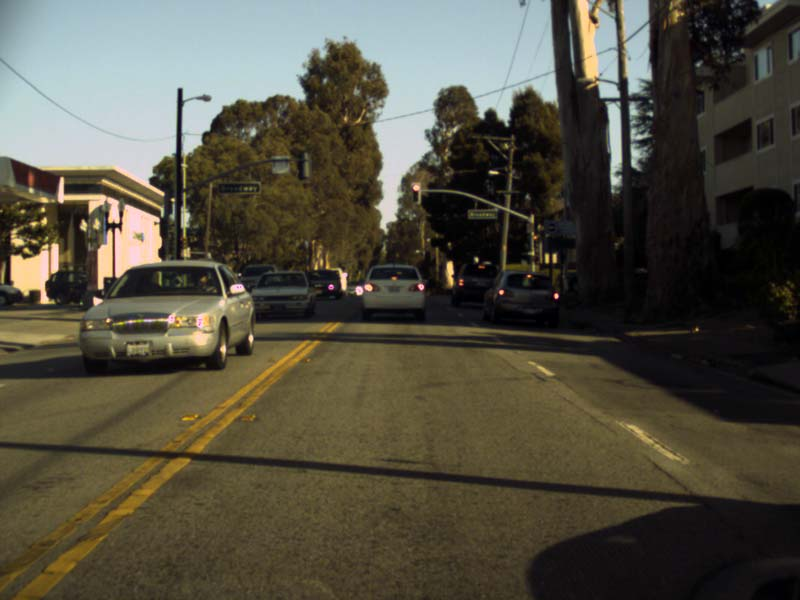Red: (410, 182, 420, 203)
